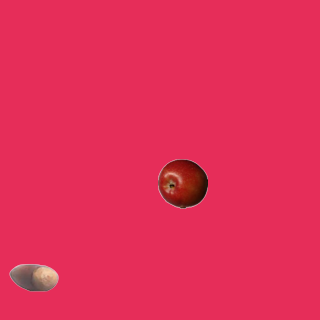Apple Braeburn: (157, 158, 207, 208)
Hazelnut: (8, 252, 58, 302)
